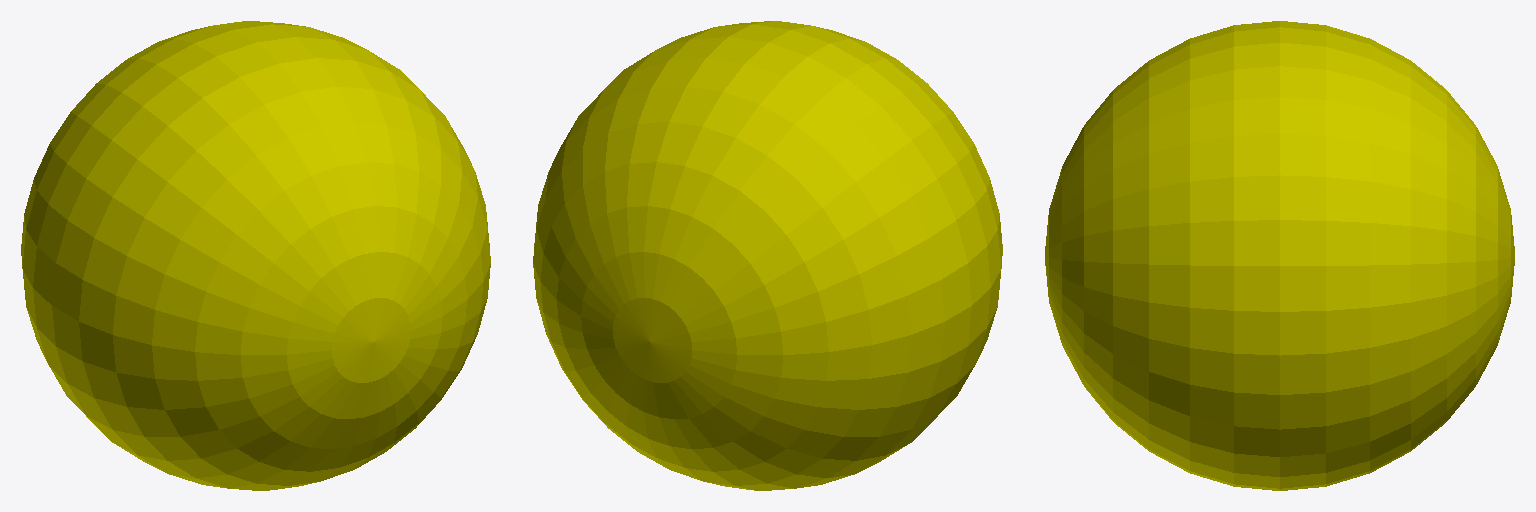
File: Sun.obj
3 renders of one model, left to right at view 1: azimuth 30°, elevation 25°; view 2: azimuth 150°, elevation 25°; view 3: azimuth 270°, elevation 25°, orthographic.
Visible parts, largest first — view 1: Sun_Sphere; view 2: Sun_Sphere; view 3: Sun_Sphere.
Boxes of the visible parts, <box> form: Sun_Sphere: <box>21,21,490,490</box>; Sun_Sphere: <box>533,21,1002,490</box>; Sun_Sphere: <box>1045,21,1514,490</box>.
Bounding box in the file's own units: 2 × 2 × 2.